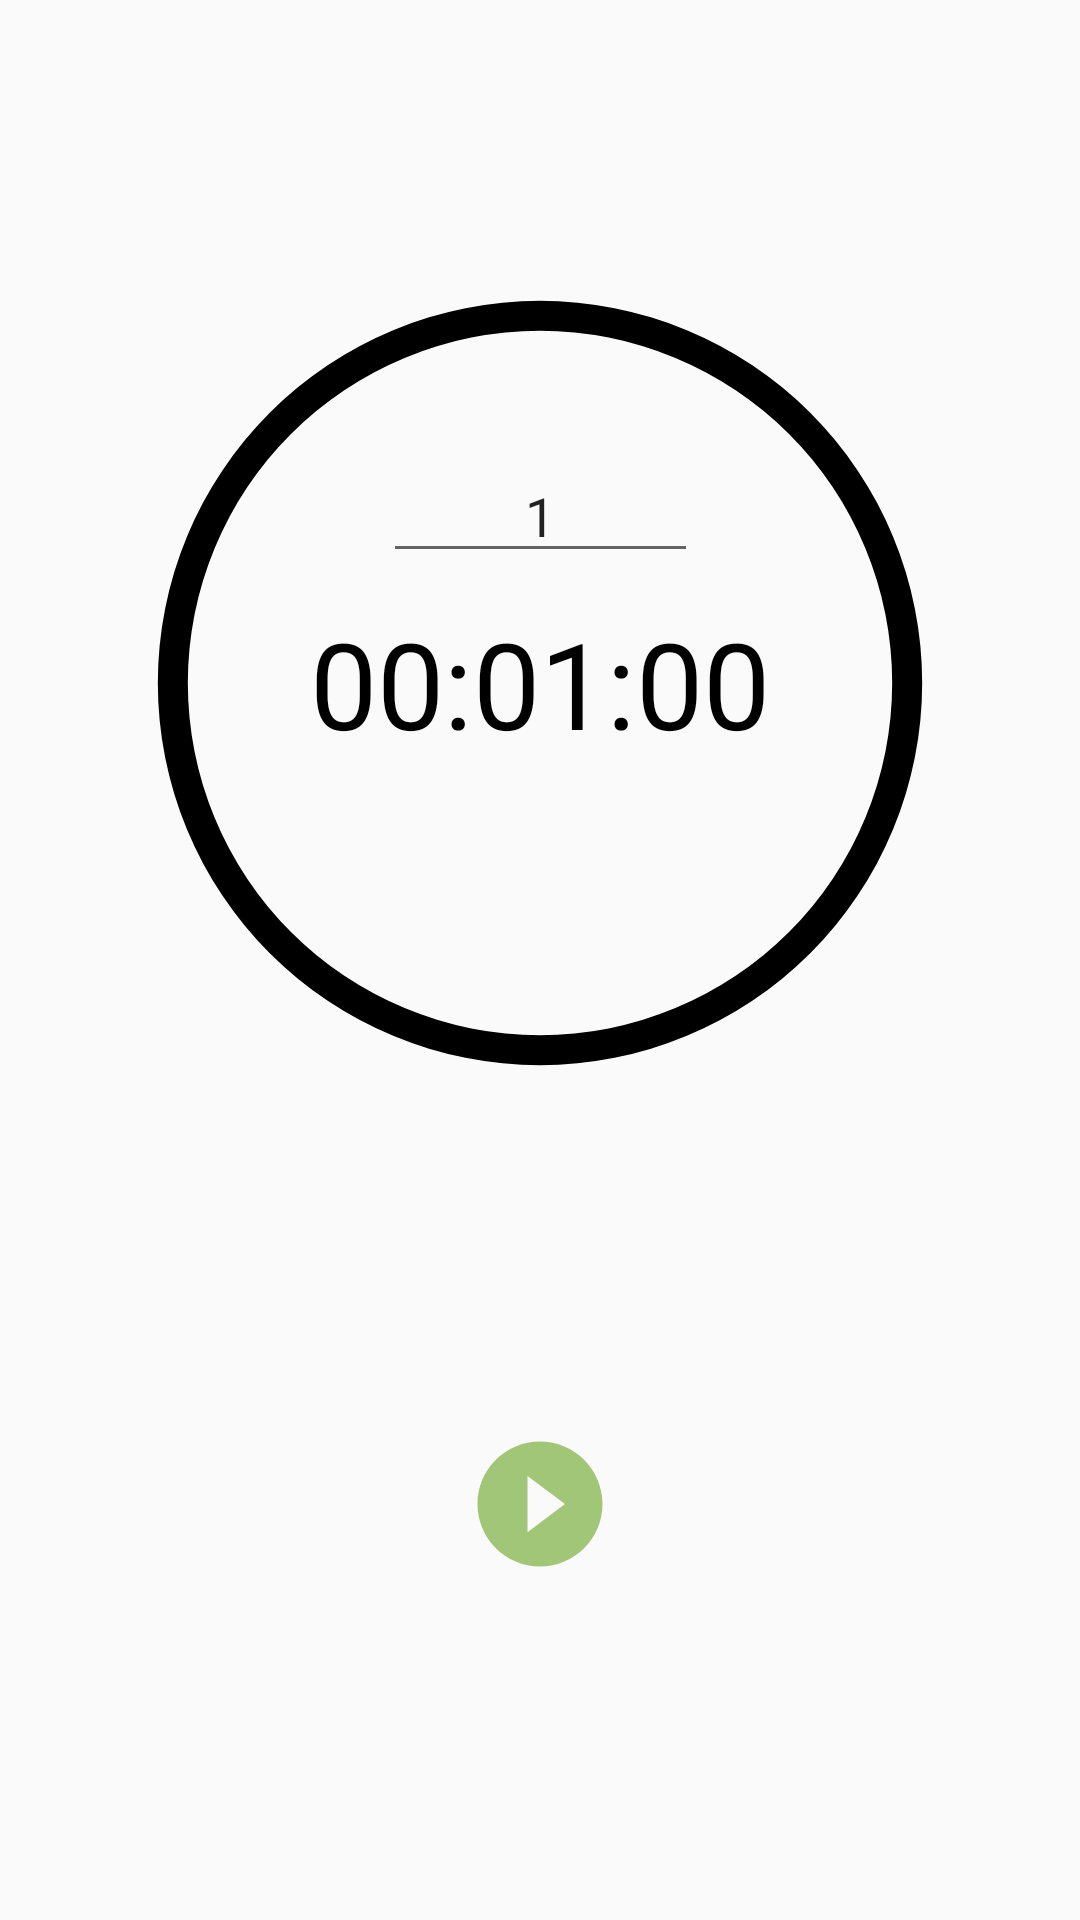

Where icons sit on this 1080 x 1920 app screen, as box=[x1, y1, x2, y2]:
play circle: box=[477, 1441, 603, 1567]
